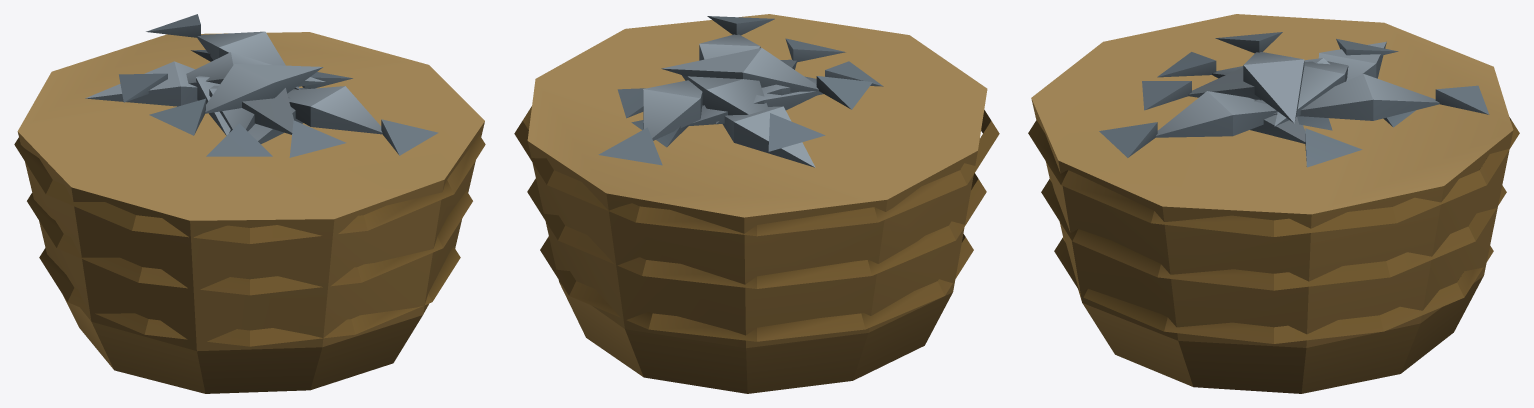
The model's file is fishbasket.glb.
The picture shows the model from 3 angles, left to right: view 1: azimuth 30°, elevation 25°; view 2: azimuth 150°, elevation 25°; view 3: azimuth 270°, elevation 25°; orthographic projection. The views are drawn at different scales.
Visible parts, largest first — view 1: base; view 2: base; view 3: base.
Part boxes in pixels (box(x1,y1,x2,y2)): base: box(14, 14, 485, 393); base: box(514, 14, 999, 393); base: box(1028, 14, 1519, 393).
Bounding box in the file's own units: 0.3024 × 0.1768 × 0.3024.
